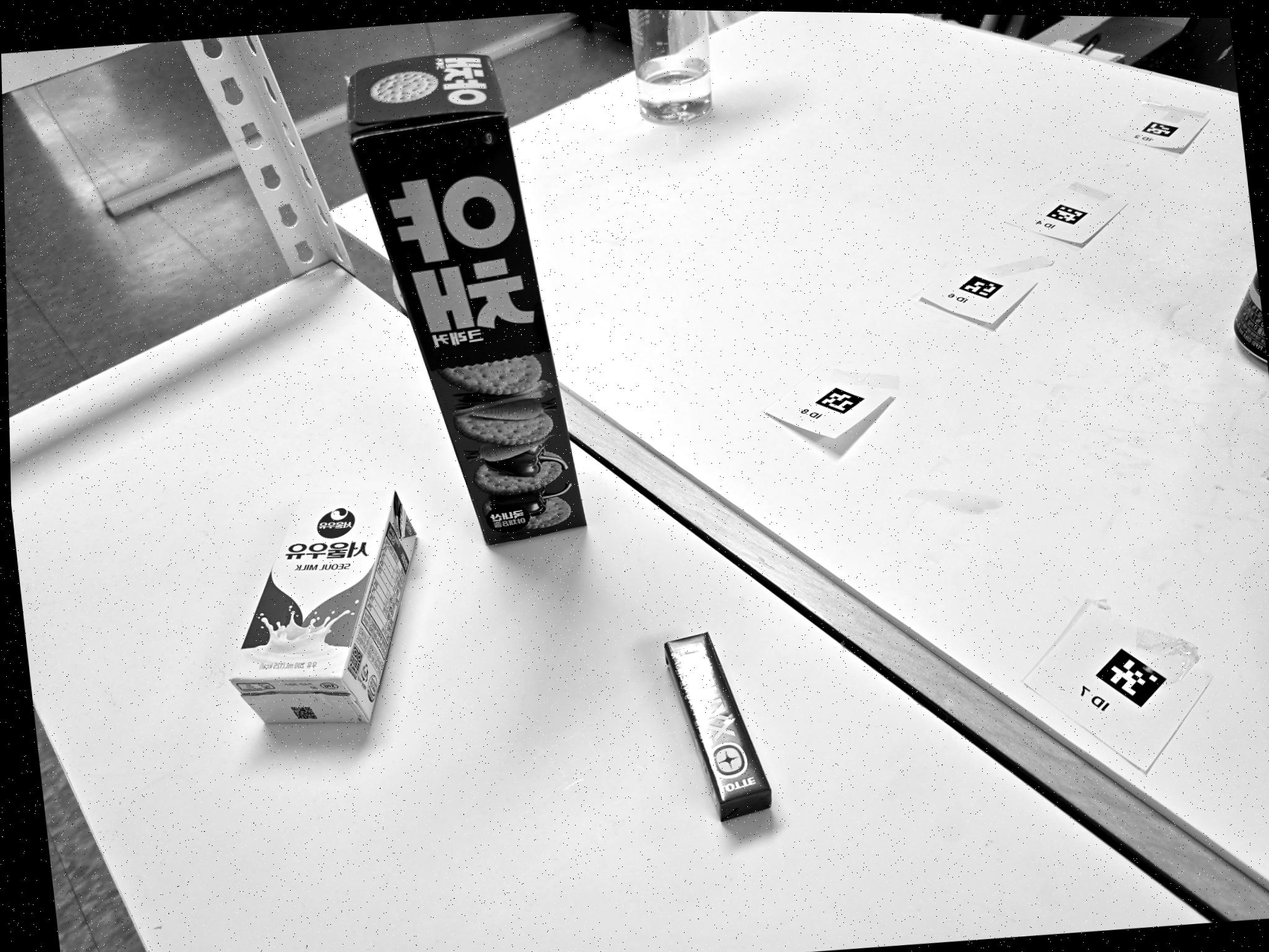cracker_vege: (347, 54, 585, 545)
gum_green: (665, 634, 771, 820)
milk_green: (231, 491, 417, 724)
